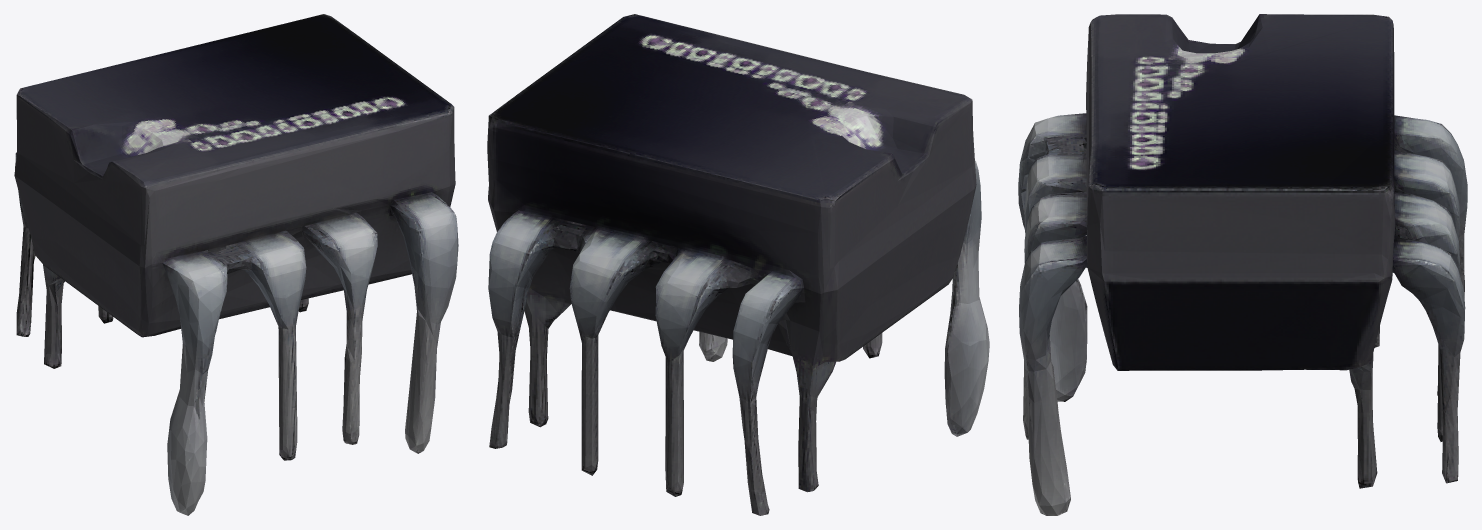
The model's file is hardware.glb.
The picture shows the model from 3 angles, left to right: view 1: azimuth 30°, elevation 25°; view 2: azimuth 150°, elevation 25°; view 3: azimuth 270°, elevation 25°; orthographic projection. The views are drawn at different scales.
Parts seen in each view (by area): view 1: world; view 2: world; view 3: world.
Part boxes in pixels (<box>): world: <box>14,14,458,515</box>; world: <box>487,14,989,515</box>; world: <box>1018,14,1467,515</box>.
Size of the model in its own units: 0.253 by 0.2473 by 0.2701.
Materials: 1 (1 with a texture image).
